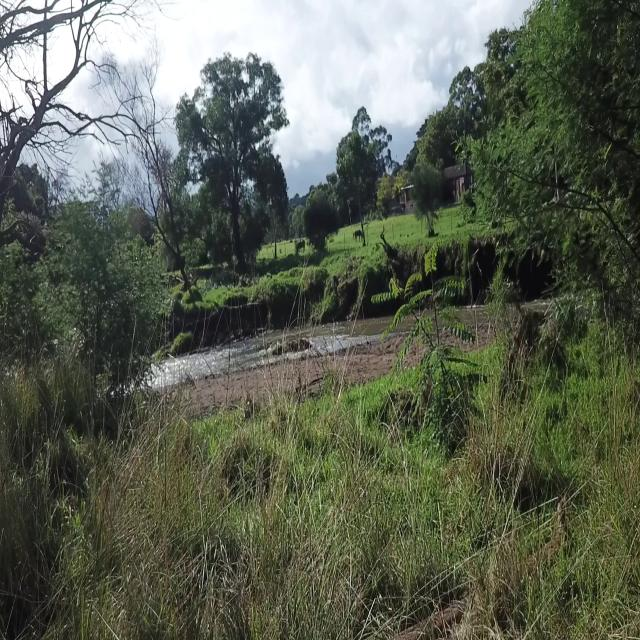Mysore-Thorn-Weed: (368, 240, 482, 454)
